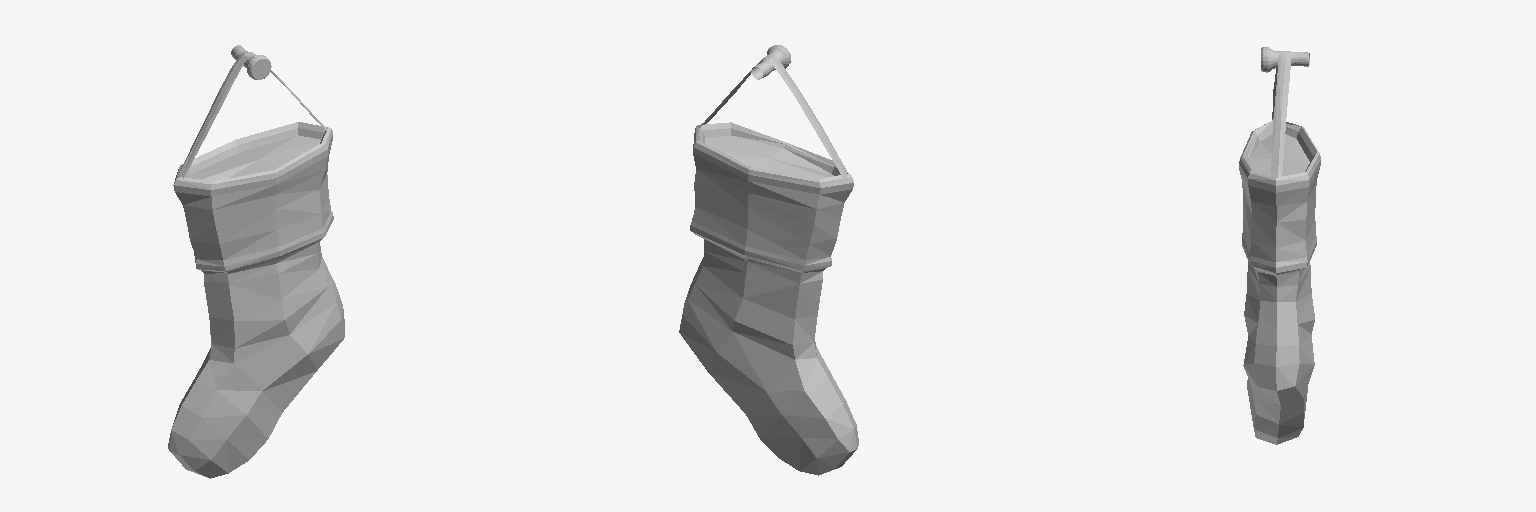
Rendered from bota1.obj.
The picture shows the model from 3 angles: view 1: azimuth 30°, elevation 25°; view 2: azimuth 150°, elevation 25°; view 3: azimuth 270°, elevation 25°; orthographic projection.
Visible parts, largest first — view 1: clavo_Noel_Sock_2020.004_clavo_Noel_Sock_2020.006; view 2: clavo_Noel_Sock_2020.004_clavo_Noel_Sock_2020.006; view 3: clavo_Noel_Sock_2020.004_clavo_Noel_Sock_2020.006.
Boxes of the visible parts, x1=… form: clavo_Noel_Sock_2020.004_clavo_Noel_Sock_2020.006: x1=168, y1=45, x2=344, y2=478; clavo_Noel_Sock_2020.004_clavo_Noel_Sock_2020.006: x1=679, y1=45, x2=858, y2=475; clavo_Noel_Sock_2020.004_clavo_Noel_Sock_2020.006: x1=1239, y1=47, x2=1320, y2=444.
Bounding box in the file's own units: 0.1263 × 0.284 × 0.0513.